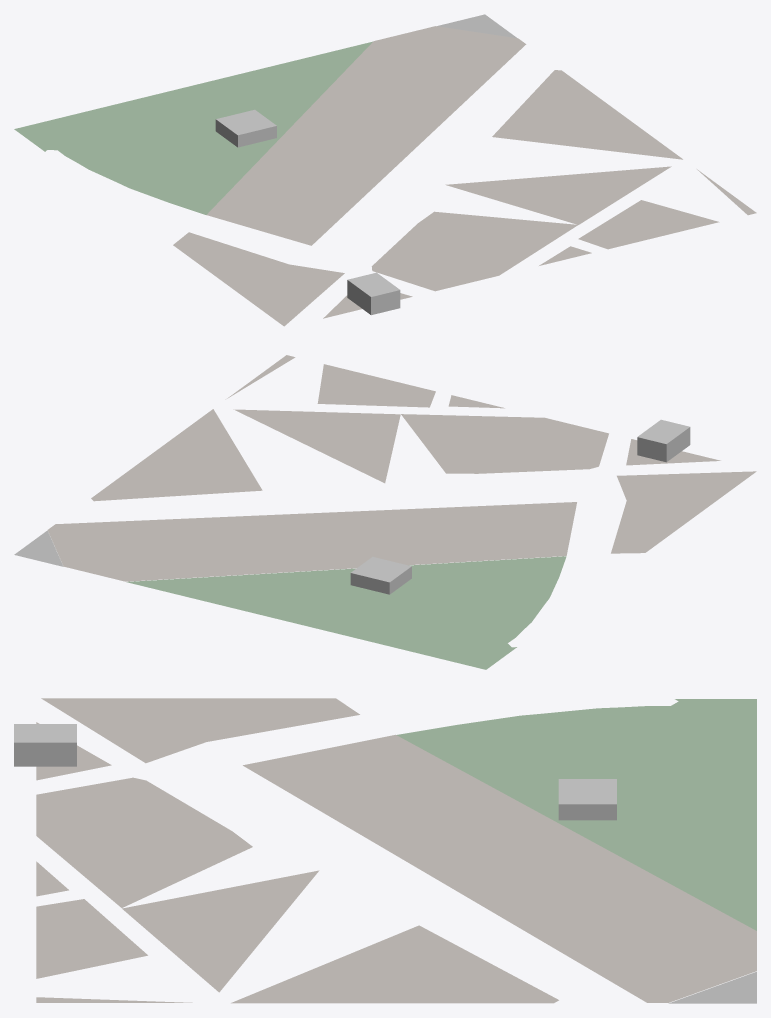
File: 103_87_mid.glb
3 renders of one model, top to bottom at view 1: azimuth 30°, elevation 25°; view 2: azimuth 150°, elevation 25°; view 3: azimuth 270°, elevation 25°, orthographic. The views are drawn at different scales.
Bounding box in the file's own units: 500 × 18.97 × 516.
